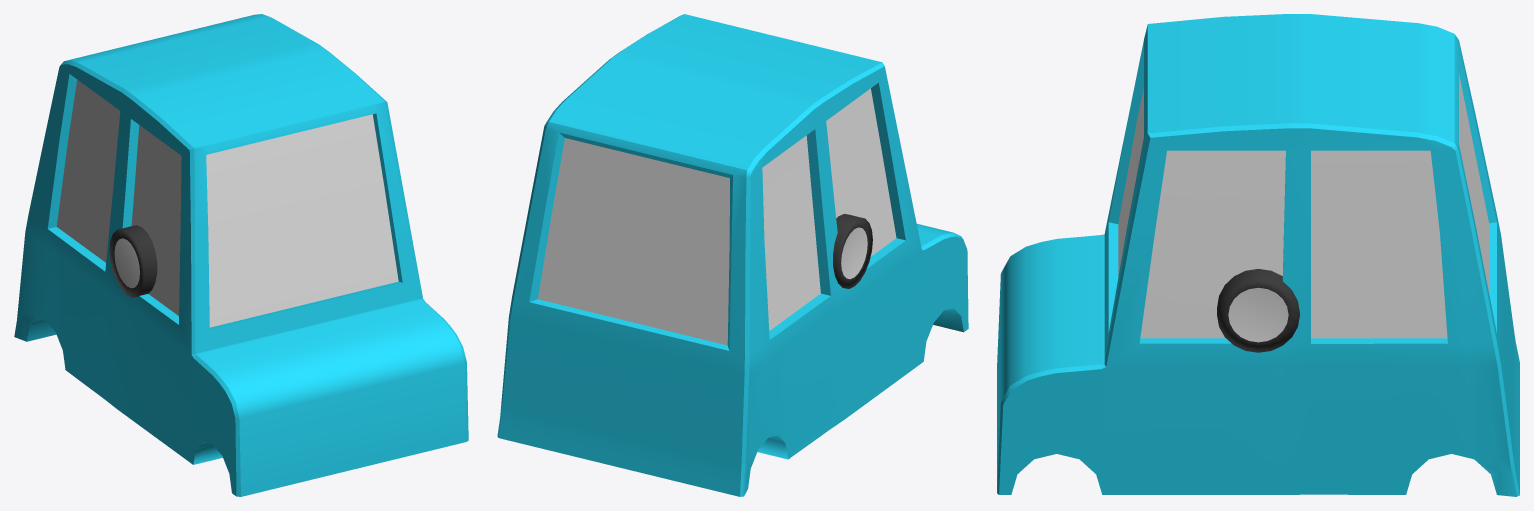
File: car 3.fbx
3 renders of one model, left to right at view 1: azimuth 30°, elevation 25°; view 2: azimuth 150°, elevation 25°; view 3: azimuth 270°, elevation 25°, orthographic. The views are drawn at different scales.
Parts seen in each view (by area): view 1: car_3_chasis, car_3_back_wheel, car_3_right_wheel; view 2: car_3_chasis, car_3_back_wheel; view 3: car_3_chasis, car_3_left_wheel.
Part boxes in pixels (<box>): car_3_chasis: <box>14,14,468,496</box>; car_3_back_wheel: <box>109,225,157,297</box>; car_3_right_wheel: <box>120,226,157,296</box>; car_3_chasis: <box>497,14,968,496</box>; car_3_back_wheel: <box>834,214,872,288</box>; car_3_chasis: <box>997,14,1519,496</box>; car_3_left_wheel: <box>1217,269,1299,352</box>.
Size of the model in its own units: 94.81 by 117 by 154.
